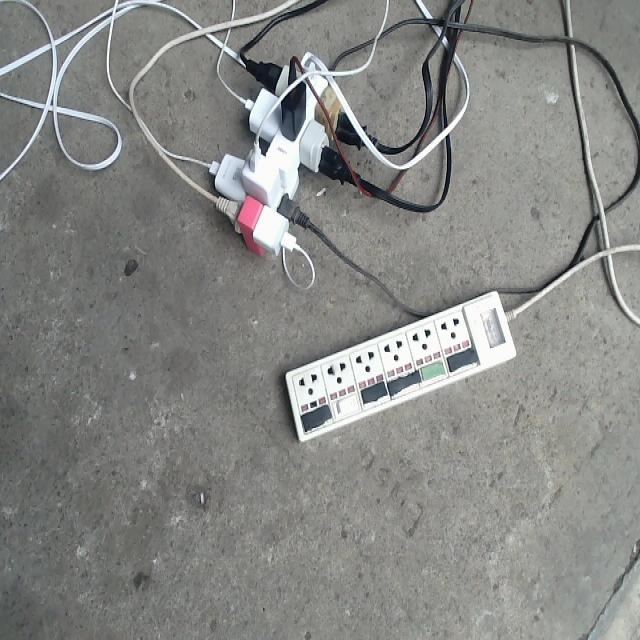-: (206, 54, 379, 258)
